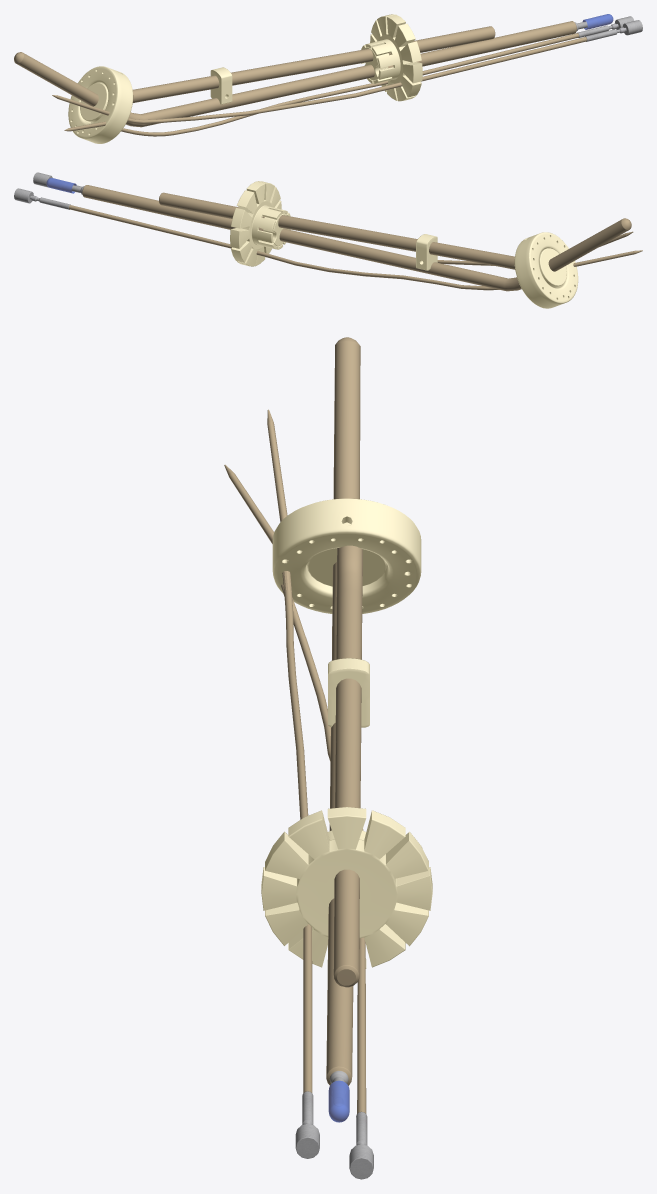
The model's file is Ring Applicator.glb.
The picture shows the model from 3 angles, top to bottom: view 1: azimuth 30°, elevation 25°; view 2: azimuth 150°, elevation 25°; view 3: azimuth 270°, elevation 25°; orthographic projection. The views are drawn at different scales.
Visible parts, largest first — view 1: Buffer_Layer, Buffer_Layer_2, ring1, Outer_Ring, Buffer_Layer_6, Buffer_Layer_3, middle_Piece_block1, pCylinder2, Buffer_Layer_5, Buffer_Layer_4, pCylinder3, pCylinder1; view 2: Buffer_Layer, Buffer_Layer_2, ring1, Outer_Ring, Buffer_Layer_3, pCylinder2, middle_Piece_block1, Buffer_Layer_4, Buffer_Layer_6, pCylinder3, pCylinder1; view 3: ring1, Outer_Ring, Buffer_Layer_2, Buffer_Layer, Buffer_Layer_6, Buffer_Layer_3, middle_Piece_block1, pCylinder2.
Part boxes in pixels (x1,y1,x2,y2): Buffer_Layer: (14, 21, 576, 127); Buffer_Layer_2: (132, 26, 495, 102); ring1: (361, 14, 422, 101); Outer_Ring: (68, 66, 133, 143); Buffer_Layer_6: (52, 37, 586, 123); Buffer_Layer_3: (64, 33, 578, 136); middle_Piece_block1: (210, 67, 232, 104); pCylinder2: (80, 82, 108, 122); Buffer_Layer_5: (585, 20, 642, 41); Buffer_Layer_4: (577, 16, 634, 37); pCylinder3: (582, 14, 613, 29); pCylinder1: (364, 47, 389, 80); Buffer_Layer: (82, 185, 631, 291); Buffer_Layer_2: (159, 192, 515, 269); ring1: (230, 181, 290, 266); Outer_Ring: (514, 232, 578, 308); Buffer_Layer_3: (69, 205, 642, 290); pCylinder2: (539, 248, 566, 287); middle_Piece_block1: (416, 234, 437, 270); Buffer_Layer_4: (14, 188, 70, 209); Buffer_Layer_6: (437, 231, 633, 265); pCylinder3: (46, 178, 76, 193); pCylinder1: (262, 213, 287, 246); ring1: (261, 807, 432, 968); Outer_Ring: (272, 498, 421, 613); Buffer_Layer_2: (333, 545, 362, 987); Buffer_Layer: (326, 337, 360, 1085); Buffer_Layer_6: (267, 409, 312, 1092); Buffer_Layer_3: (224, 464, 366, 1113); middle_Piece_block1: (328, 658, 369, 727); pCylinder2: (307, 548, 386, 586).
Bounding box in the file's own units: 0.6871 × 0.144 × 0.1015.
5 materials, 1 textured.
